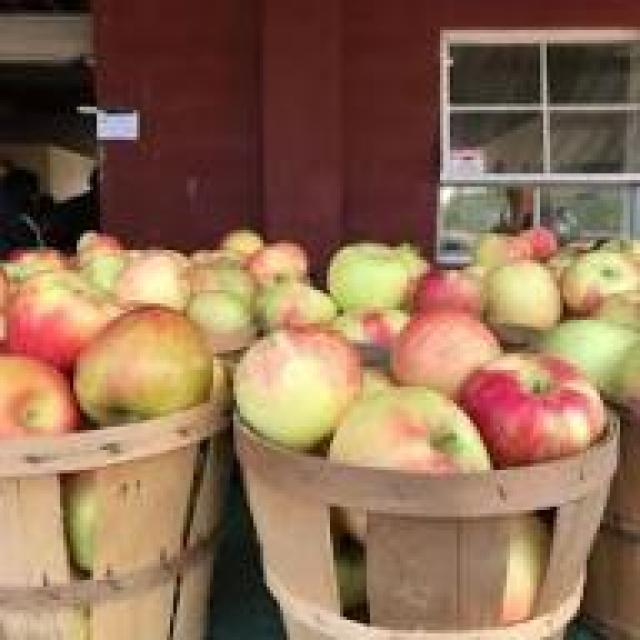apple: (466, 356, 616, 476), (66, 310, 206, 413), (333, 386, 480, 476), (240, 320, 357, 430), (10, 270, 120, 367), (327, 237, 413, 320), (480, 260, 573, 333), (407, 310, 493, 387), (107, 253, 193, 307), (414, 263, 484, 320), (570, 246, 633, 306), (470, 224, 537, 264)
